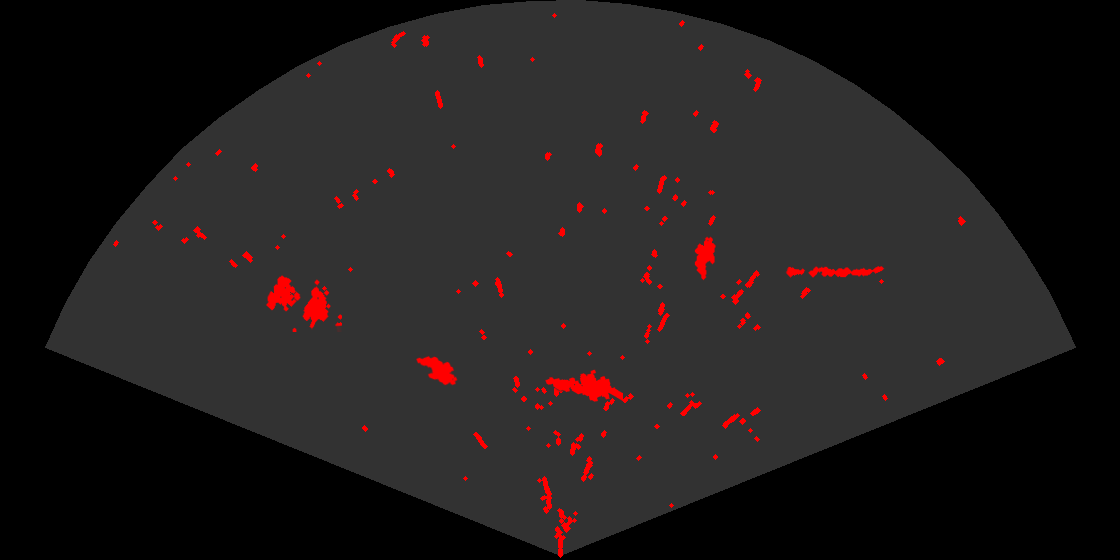AUV: (415, 354, 459, 387), (693, 235, 717, 282)
cage: (264, 274, 342, 332)
chain: (785, 265, 885, 279)
frogman: (544, 368, 623, 403)
